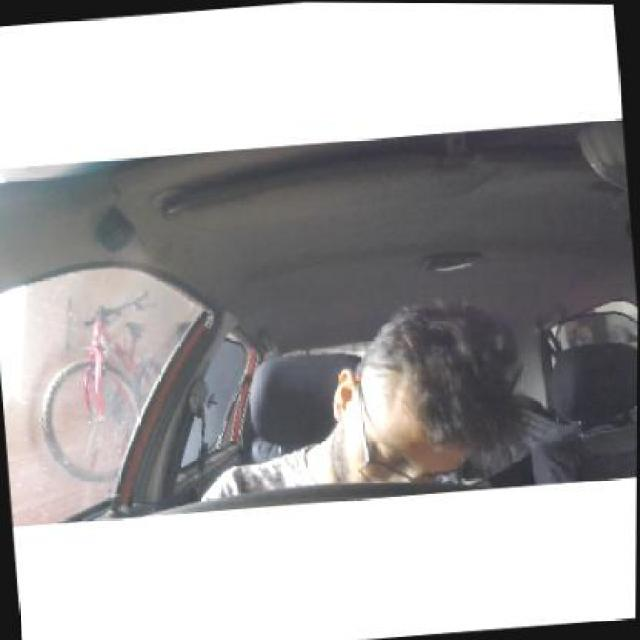drowsy: (316, 307, 536, 488)
